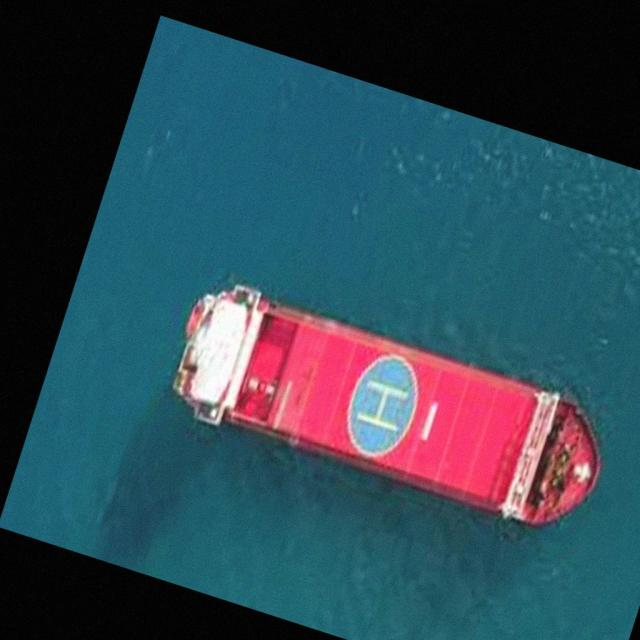helipad: (341, 348, 421, 462)
